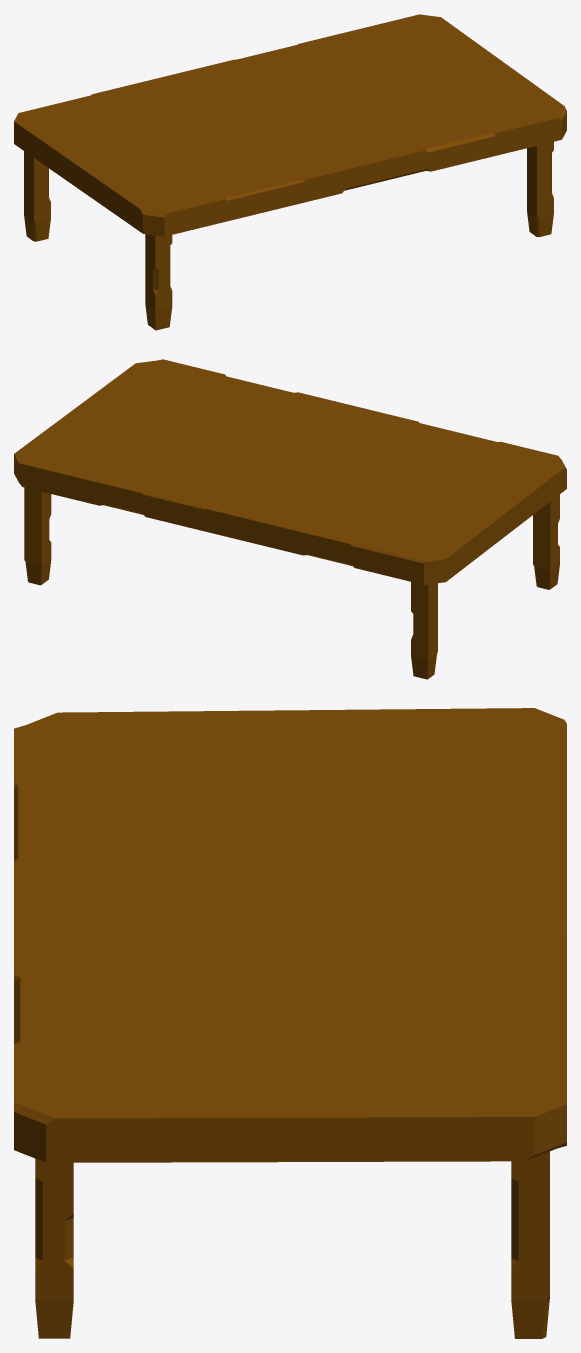
Rendered from Table.FBX.
3 views of the same model, one above another, from view 1: azimuth 30°, elevation 25°; view 2: azimuth 150°, elevation 25°; view 3: azimuth 270°, elevation 25° (orthographic). The views are drawn at different scales.
Visible parts, largest first — view 1: Table, Table_leg2, Table_leg4, Table_leg1; view 2: Table, Table_leg3, Table_leg1, Table_leg2; view 3: Table, Table_leg3, Table_leg4.
Part boxes in pixels (x1,y1,x2,y2): Table: (14, 14, 566, 236); Table_leg2: (145, 234, 172, 330); Table_leg4: (527, 142, 553, 237); Table_leg1: (24, 151, 50, 241); Table: (14, 359, 566, 584); Table_leg3: (24, 487, 51, 585); Table_leg1: (411, 582, 437, 679); Table_leg2: (533, 494, 559, 589); Table: (14, 708, 566, 1162); Table_leg3: (511, 1151, 549, 1338); Table_leg4: (35, 1158, 73, 1338).
Bounding box in the file's own units: 96.79 × 26.06 × 55.11.
